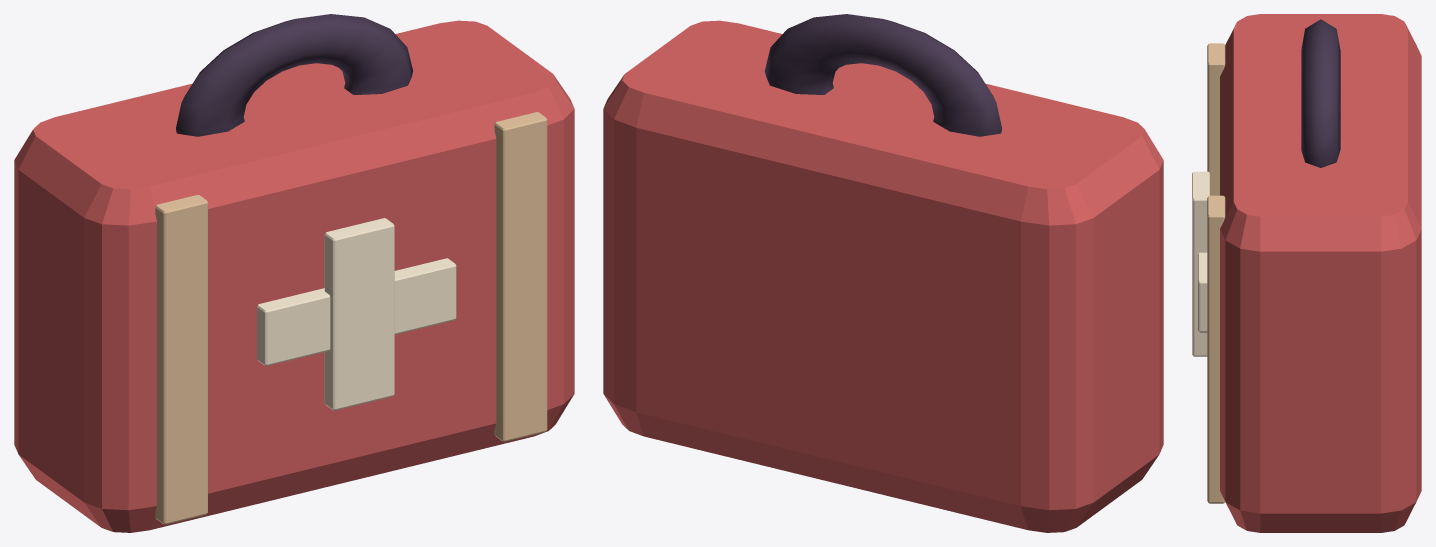
Rendered from pet_med_bag.glb.
The picture shows the model from 3 angles, left to right: view 1: azimuth 30°, elevation 25°; view 2: azimuth 150°, elevation 25°; view 3: azimuth 270°, elevation 25°; orthographic projection. The views are drawn at different scales.
Parts seen in each view (by area): view 1: model; view 2: model; view 3: model.
Part boxes in pixels (box(x1,y1,x2,y2)): model: box(14, 14, 574, 532); model: box(603, 14, 1163, 532); model: box(1192, 14, 1421, 532).
Size of the model in its own units: 0.45 by 0.38 by 0.2.
